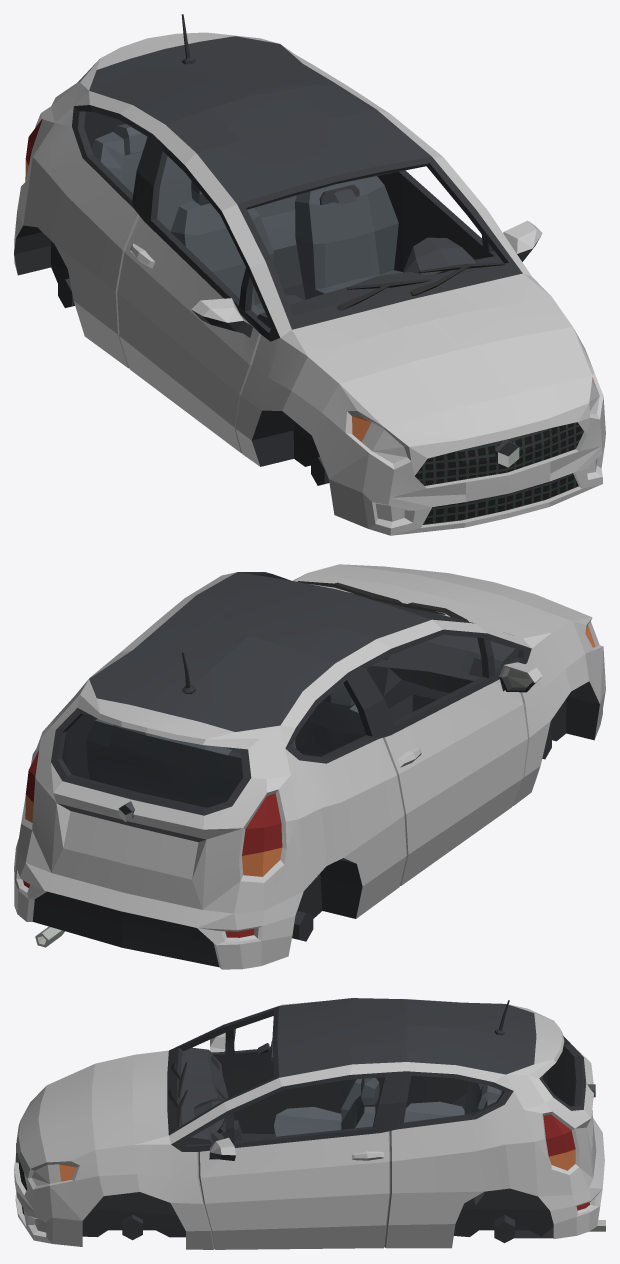
The model's file is SM_Veh_Car_Small_01.obj.
3 views of the same model, one above another, from view 1: azimuth 30°, elevation 25°; view 2: azimuth 150°, elevation 25°; view 3: azimuth 270°, elevation 25° (orthographic). The views are drawn at different scales.
Visible parts, largest first — view 1: SM_Veh_Car_Small_01_0; view 2: SM_Veh_Car_Small_01_0; view 3: SM_Veh_Car_Small_01_0.
Boxes of the visible parts, <box> form: SM_Veh_Car_Small_01_0: <box>14,14,605,535</box>; SM_Veh_Car_Small_01_0: <box>14,564,605,969</box>; SM_Veh_Car_Small_01_0: <box>14,998,605,1249</box>.
Bounding box in the file's own units: 2.07 × 1.57 × 4.07.
Materials: 1 (1 with a texture image).
